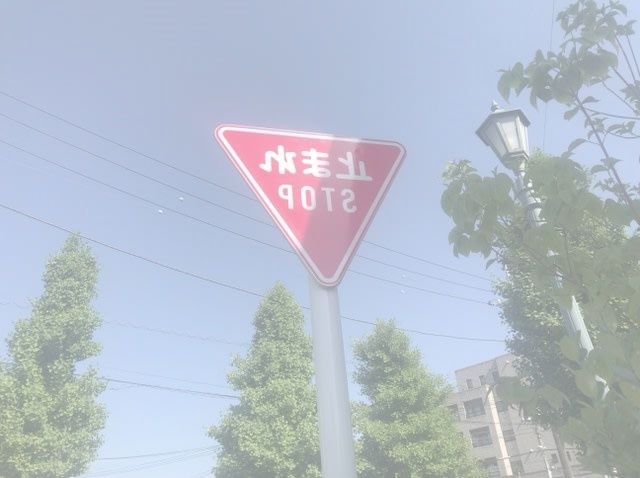Regulatory_sign_triangle: (212, 119, 406, 291)
